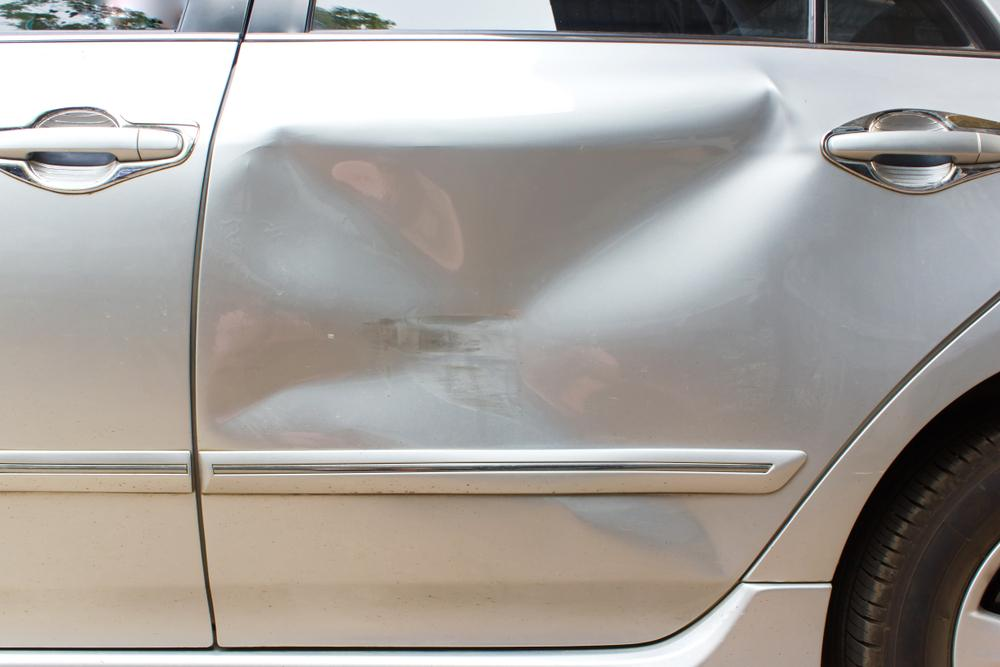dent: (200, 83, 1000, 449), (560, 497, 752, 573)
